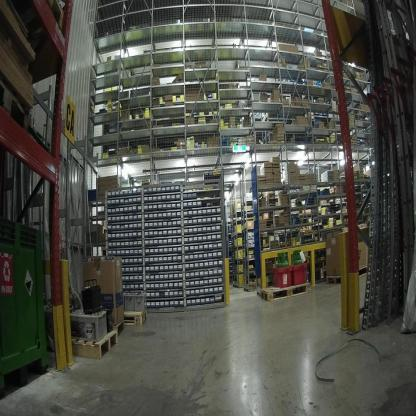pallets: (69, 320, 123, 361), (256, 282, 309, 302), (323, 265, 368, 285), (122, 310, 144, 327), (325, 274, 341, 284)
